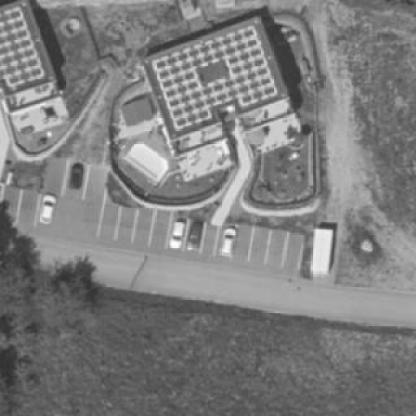solar-pv-panel: (151, 24, 266, 101), (166, 65, 277, 129), (0, 6, 46, 89)
